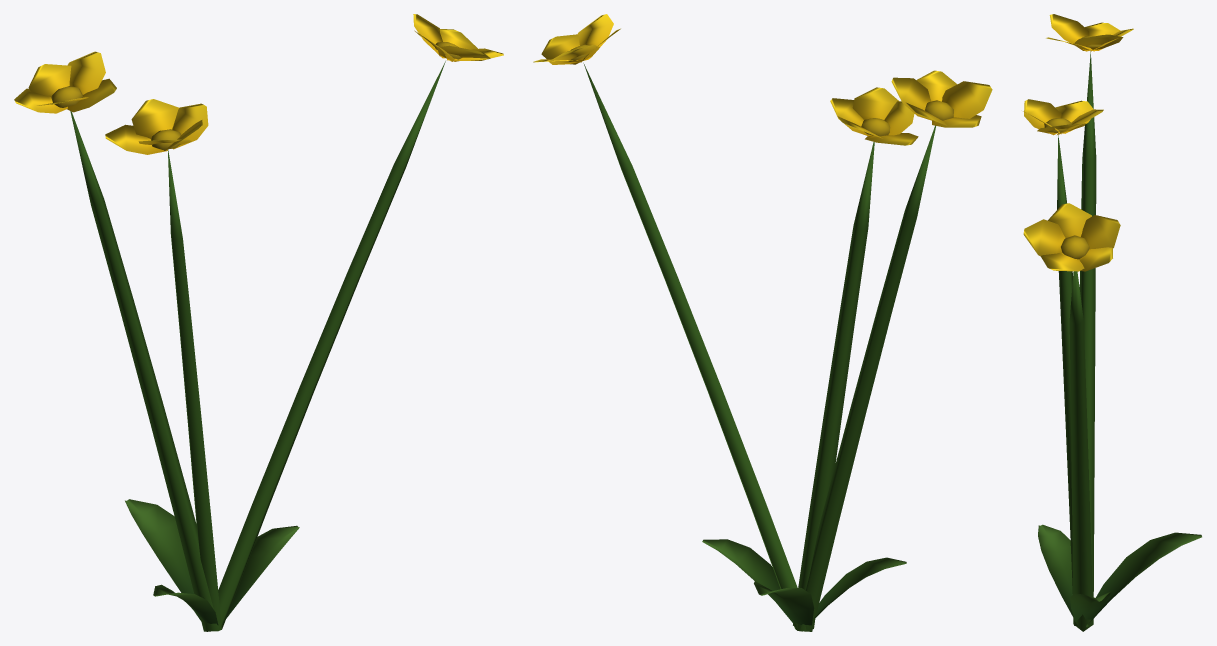
Rendered from flower-buttercup.glb.
3 views of the same model, side by side, from view 1: azimuth 30°, elevation 25°; view 2: azimuth 150°, elevation 25°; view 3: azimuth 270°, elevation 25° (orthographic). The views are drawn at different scales.
Visible parts, largest first — view 1: Flower_Buttercup; view 2: Flower_Buttercup; view 3: Flower_Buttercup.
Boxes of the visible parts, box(x1,y1,x2,y2) form: Flower_Buttercup: box(14, 14, 503, 631); Flower_Buttercup: box(533, 14, 992, 631); Flower_Buttercup: box(1023, 14, 1201, 631).
Bounding box in the file's own units: 0.2721 × 0.3349 × 0.1006.
